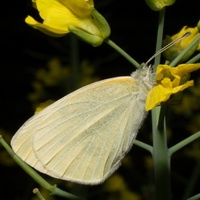insect: (11, 64, 154, 184)
